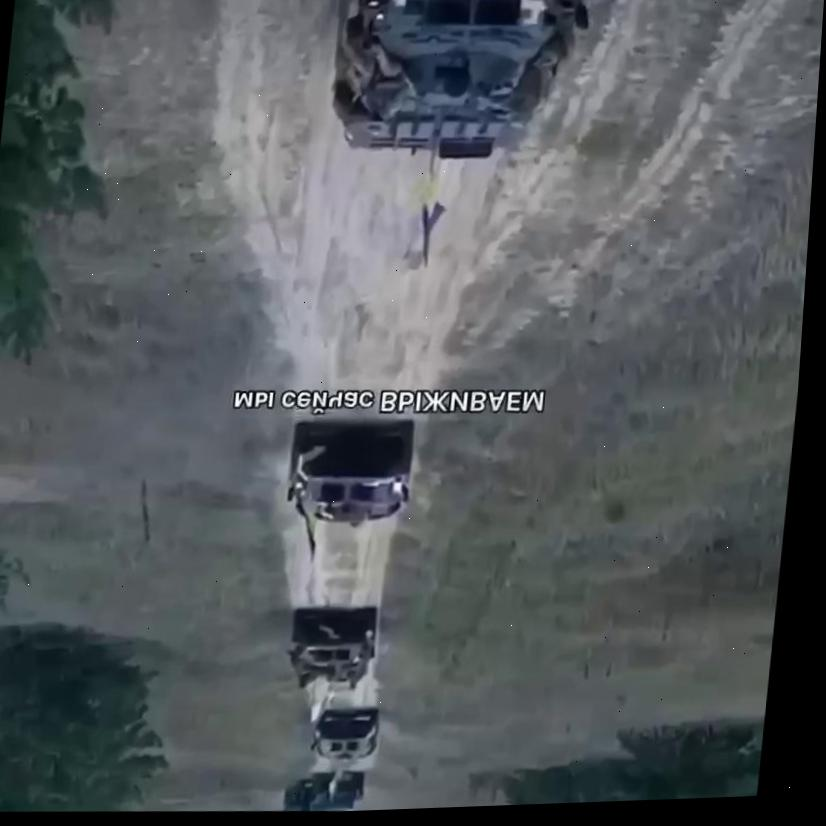tank: (320, 0, 596, 169), (283, 413, 418, 529), (283, 602, 384, 691), (307, 707, 383, 764)
truck: (277, 773, 381, 814)
